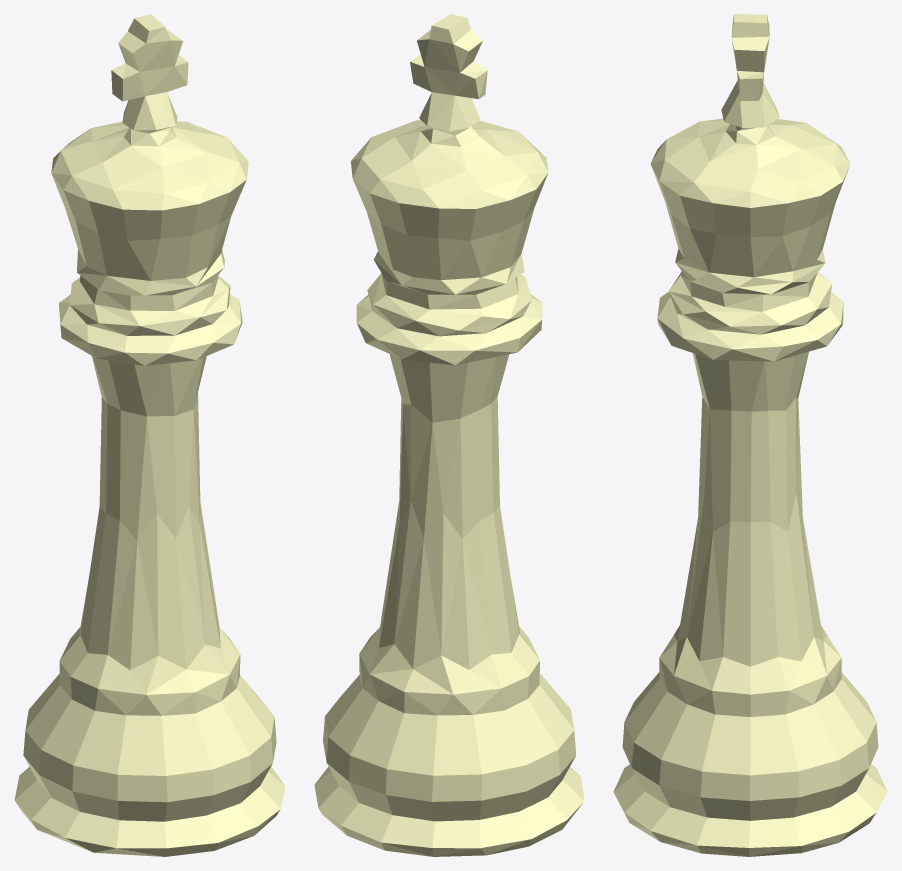
Rendered from king_lt.fbx.
The picture shows the model from 3 angles, left to right: view 1: azimuth 30°, elevation 25°; view 2: azimuth 150°, elevation 25°; view 3: azimuth 270°, elevation 25°; orthographic projection.
Visible parts, largest first — view 1: King_LT; view 2: King_LT; view 3: King_LT.
Boxes of the visible parts, left/top/right/bottom form: King_LT: left=14, top=14, right=285, bottom=856; King_LT: left=314, top=14, right=584, bottom=856; King_LT: left=613, top=14, right=887, bottom=856.
Bounding box in the file's own units: 1.84 × 5.9 × 1.85.
